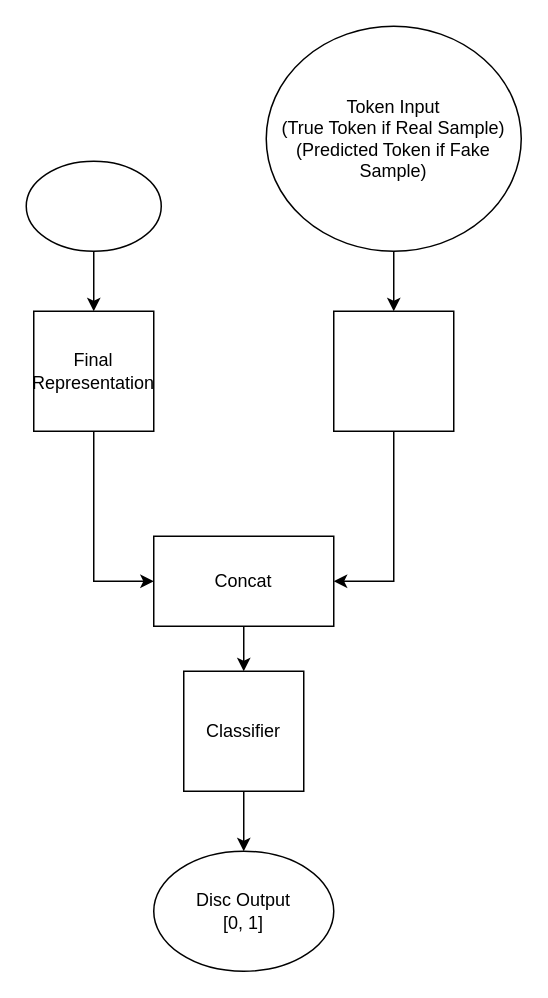
Image size: 548x998. Some labels were removed from this diagram. Each missing label, with the box of its shape:
Encoder-Representation: (25, 160, 161, 251)
Token Encoder: (332, 310, 454, 431)
